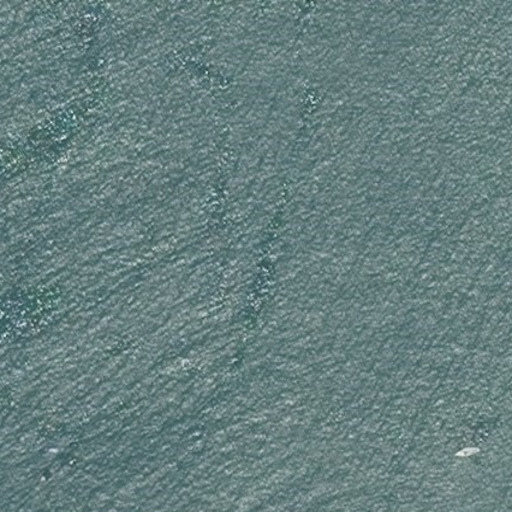ship: (451, 444, 484, 461)
